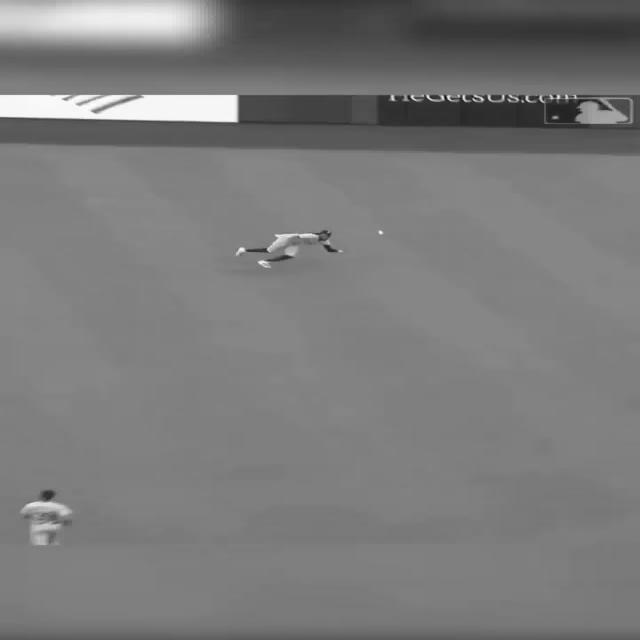baseball: (376, 231, 385, 235)
baseball_glove: (329, 250, 348, 256)
shoe: (258, 260, 272, 270), (234, 247, 248, 256)
